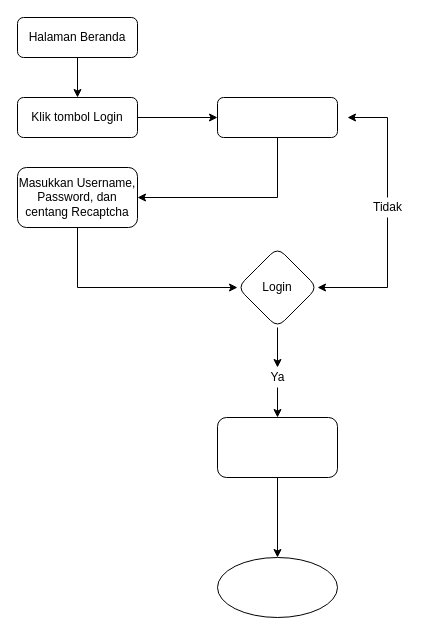
The diagram is 425 pixels wide and 635 high, and some of its shapes have lost their labels. The centre of each missing label's shape, as x and y in pixels:
"Dashboad Admin" belongs at (277,447).
"Menampilkan modal Login" belongs at (277,117).
